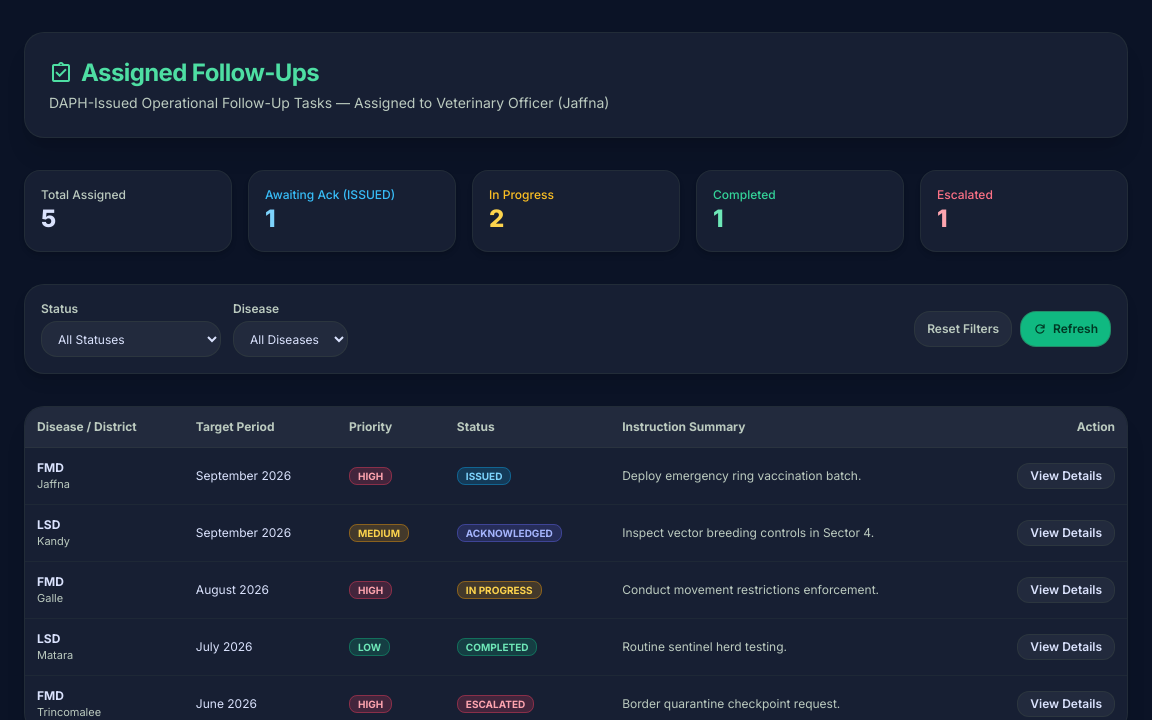
Test: VeterinaryAssignedFollowUps Component › Detail Panel & Scientific Snapshot › opens detail panel when View Details button is clicked
The width and height of the screenshot is (1152, 720).
Expected: the text "Jaffna" is shown, [37,476,70,492]
Click the button "View Details" next to "Deploy emergency ring vaccination batch.".
click(1066, 476)  # box [1017,463,1115,489]
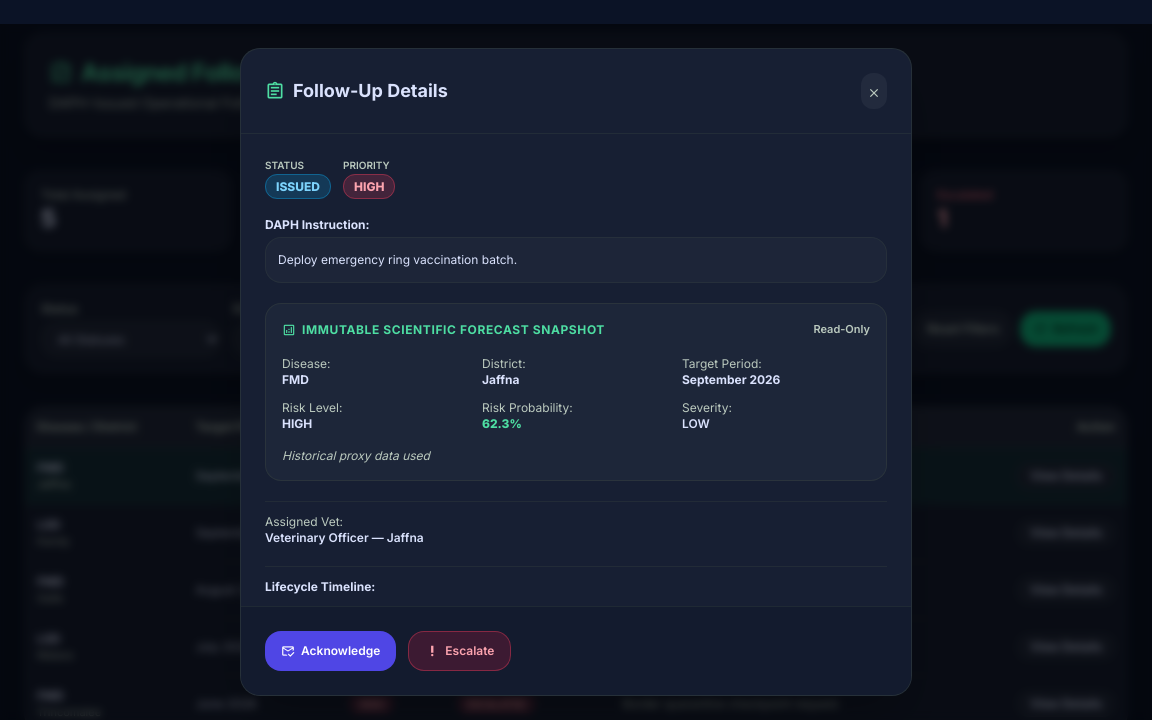
Now the heading "Follow-Up Details" is shown, box [265,77,448,105]
Now the text "Immutable Scientific Forecast Snapshot" is shown, box [302,322,605,338]
Now the text "62.3%" is shown, box [482,416,522,430]
